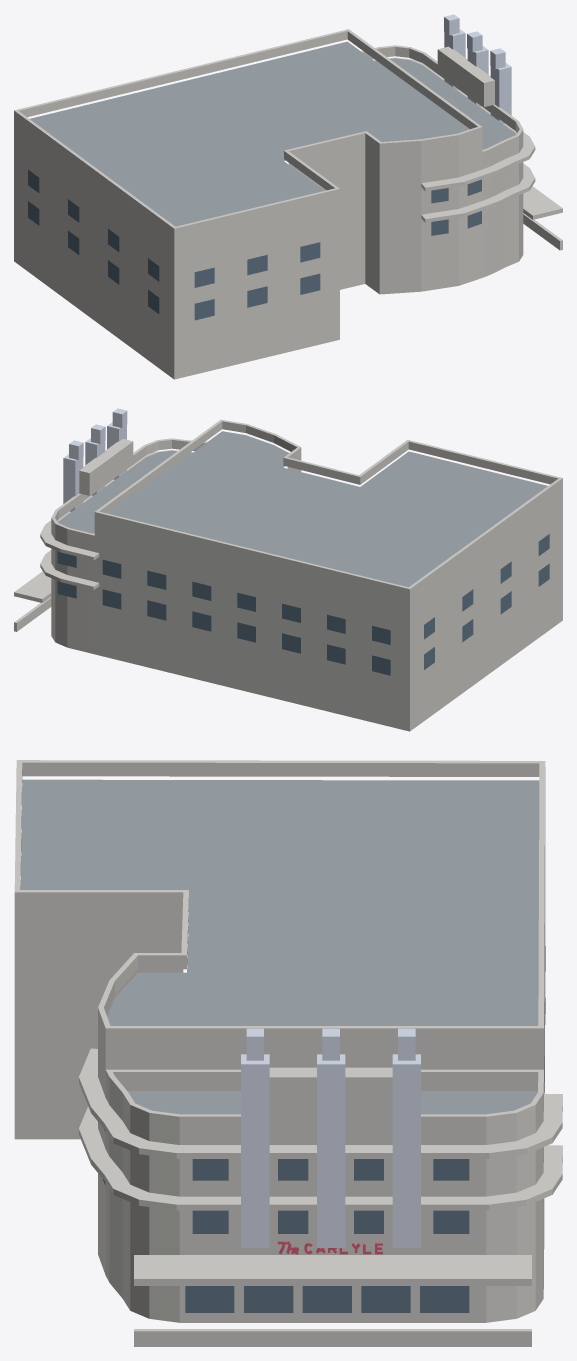
File: mia-carlyle-hotel.glb
3 renders of one model, top to bottom at view 1: azimuth 30°, elevation 25°; view 2: azimuth 150°, elevation 25°; view 3: azimuth 270°, elevation 25°, orthographic. The views are drawn at different scales.
Visible parts, largest first — view 1: The Carlyle; view 2: The Carlyle; view 3: The Carlyle.
Boxes of the visible parts, bbox=[...] form: The Carlyle: bbox=[14, 14, 562, 379]; The Carlyle: bbox=[14, 408, 562, 731]; The Carlyle: bbox=[14, 760, 562, 1346].
Bounding box in the file's own units: 42.44 × 17 × 28.98.
